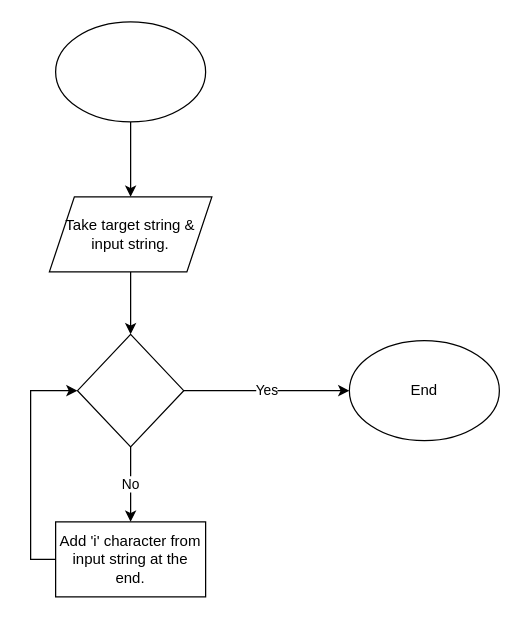
This 521x619 diagram has some shape labels left out. Each missing label, with the box of its shape:
End of string has reached.: (76, 333, 184, 447)
Start: (54, 21, 206, 122)
